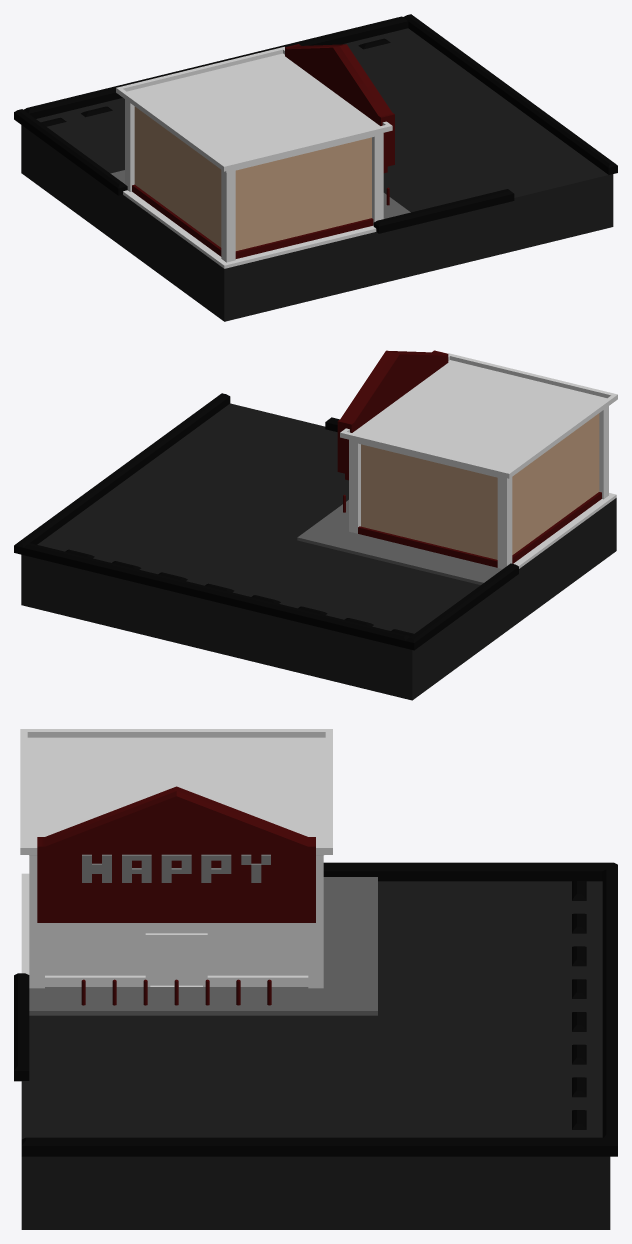
The model's file is HappyMart_Standin.fbx.
3 views of the same model, one above another, from view 1: azimuth 30°, elevation 25°; view 2: azimuth 150°, elevation 25°; view 3: azimuth 270°, elevation 25° (orthographic). The views are drawn at different scales.
Parts seen in each view (by area): view 1: Foundation5, pCube37, pCube120, pCube119, pCube115, Foundation2, pCube31, pCube32, pCube29; view 2: Foundation5, pCube37, pCube118, pCube119, pCube115, pCube29, pCube3, Foundation2, pCube31; view 3: Foundation5, pCube115, pCube37, pCube116, pCube117, pCube54, pCube32, pCube3, Foundation2.
Boxes of the visible parts, <box> form: Foundation5: <box>14,14,617,321</box>; pCube37: <box>116,46,392,172</box>; pCube120: <box>235,137,373,258</box>; pCube119: <box>132,106,221,256</box>; pCube115: <box>285,44,394,173</box>; Foundation2: <box>123,191,376,268</box>; pCube31: <box>221,170,235,262</box>; pCube32: <box>372,134,383,225</box>; pCube29: <box>125,99,134,191</box>; Foundation5: <box>14,393,616,700</box>; pCube37: <box>340,353,617,479</box>; pCube118: <box>358,444,497,567</box>; pCube119: <box>512,413,601,563</box>; pCube115: <box>337,350,448,480</box>; pCube29: <box>497,477,512,568</box>; pCube3: <box>349,441,360,533</box>; Foundation2: <box>513,493,616,568</box>; pCube31: <box>599,406,608,499</box>; Foundation5: <box>14,862,617,1229</box>; pCube115: <box>37,786,315,922</box>; pCube37: <box>20,729,332,858</box>; pCube116: <box>45,923,308,975</box>; pCube117: <box>45,933,308,986</box>; pCube54: <box>150,938,202,985</box>; pCube32: <box>29,858,44,988</box>; pCube3: <box>308,858,323,988</box>; Foundation2: <box>21,873,202,986</box>.
Bounding box in the file's own units: 4.3 × 2.02 × 3.9.
